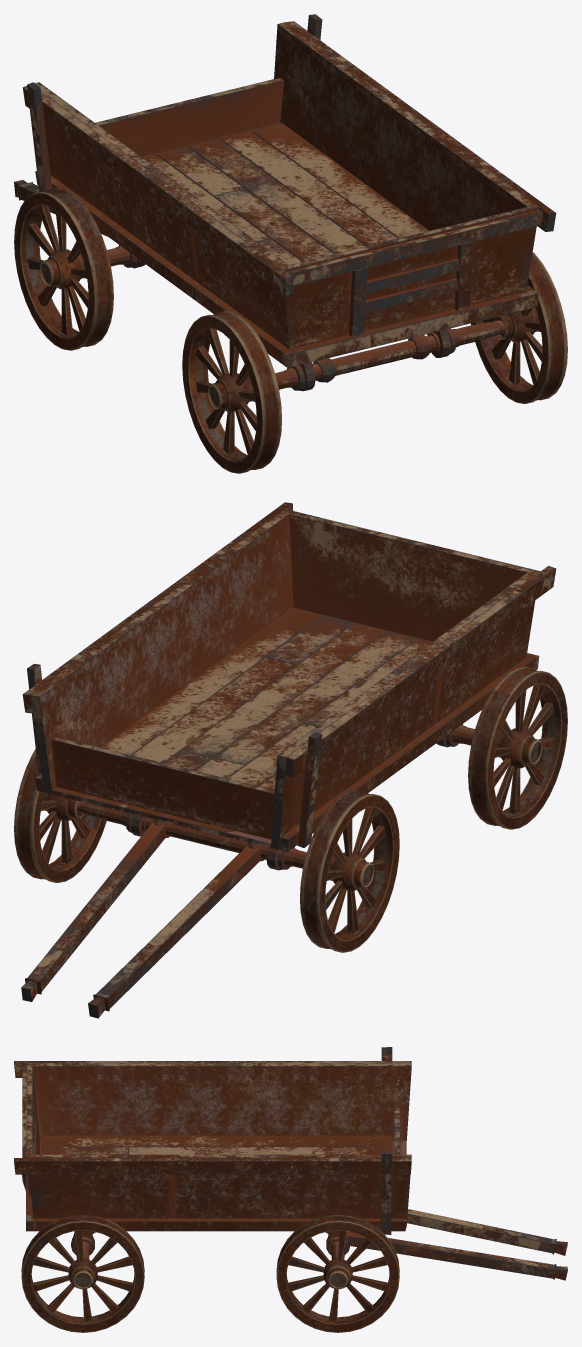
Rendered from farm_cart.glb.
The picture shows the model from 3 angles, top to bottom: view 1: azimuth 30°, elevation 25°; view 2: azimuth 150°, elevation 25°; view 3: azimuth 270°, elevation 25°; orthographic projection. The views are drawn at different scales.
Visible parts, largest first — view 1: farm_cart; view 2: farm_cart; view 3: farm_cart.
Boxes of the visible parts, x1,y1,x2,y2 form: farm_cart: (14, 14, 567, 473); farm_cart: (14, 502, 567, 1018); farm_cart: (14, 1047, 567, 1332).
Bounding box in the file's own units: 0.5103 × 0.3525 × 1.
2 materials, 2 textured.
